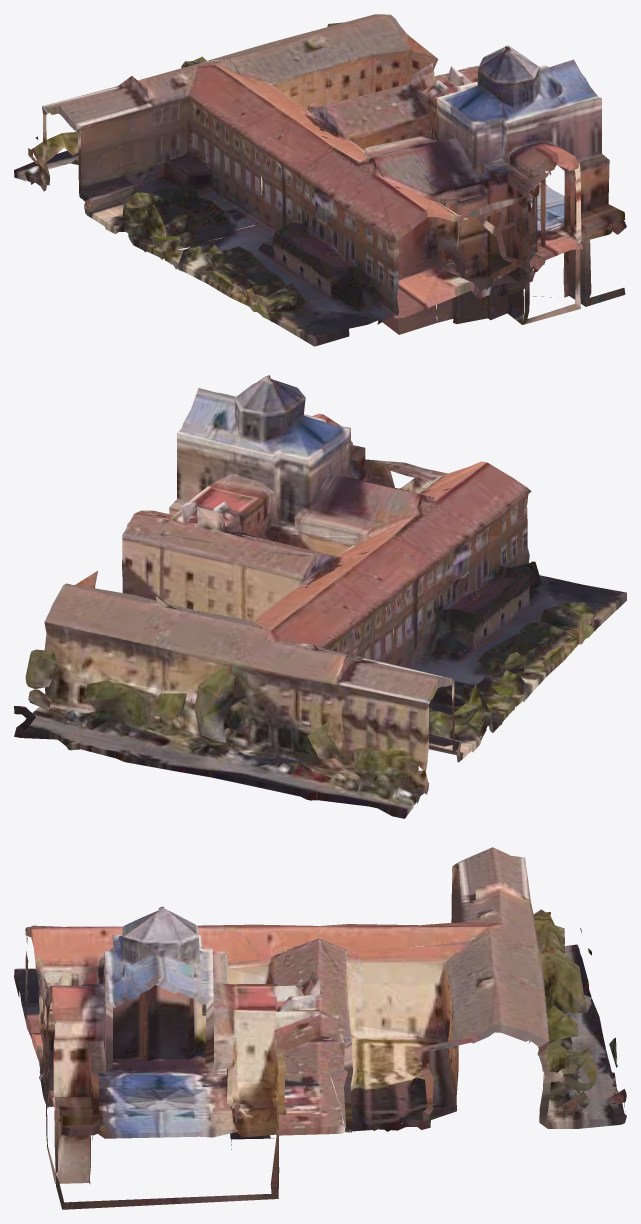
The picture shows the model from 3 angles, top to bottom: view 1: azimuth 30°, elevation 25°; view 2: azimuth 150°, elevation 25°; view 3: azimuth 270°, elevation 25°; orthographic projection. The views are drawn at different scales.
Visible parts, largest first — view 1: Mesh_0; view 2: Mesh_0; view 3: Mesh_0.
Part boxes in pixels (x1,y1,x2,y2): Mesh_0: (14, 14, 626, 346); Mesh_0: (14, 375, 626, 818); Mesh_0: (14, 847, 626, 1209).
Size of the model in its own units: 66.85 by 38.99 by 82.38.
Materials: 1 (1 with a texture image).
